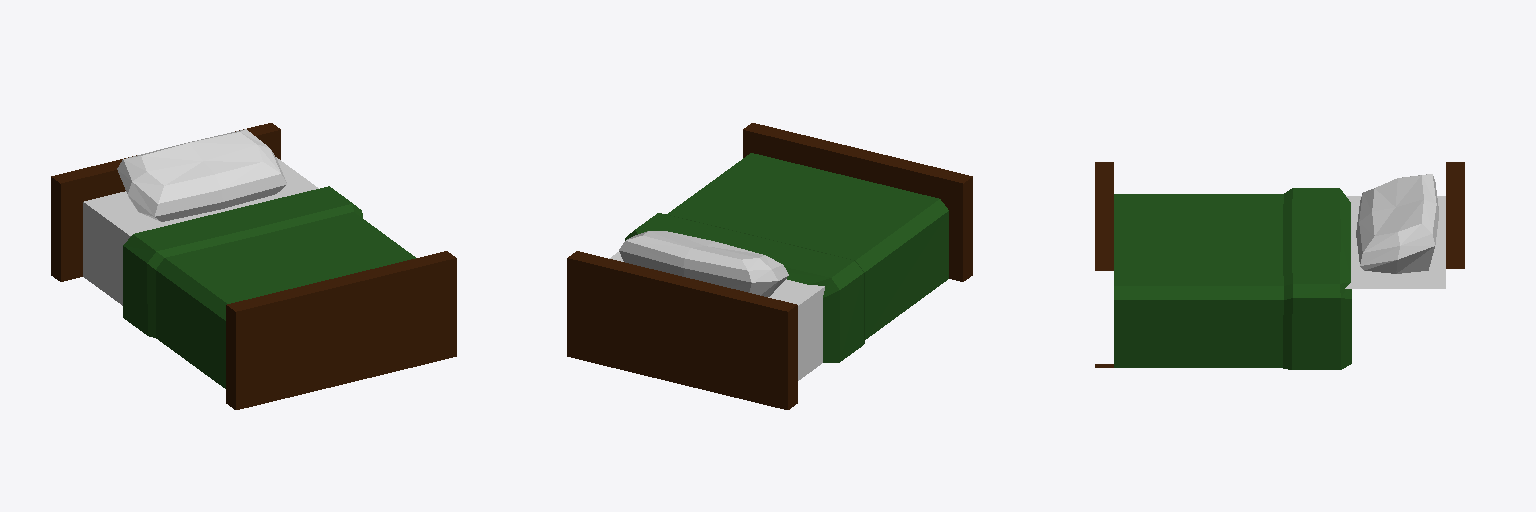
The model's file is HQ_bed.obj.
3 views of the same model, side by side, from view 1: azimuth 30°, elevation 25°; view 2: azimuth 150°, elevation 25°; view 3: azimuth 270°, elevation 25° (orthographic).
Visible parts, largest first — view 1: HQ_bed; view 2: HQ_bed; view 3: HQ_bed.
Boxes of the visible parts, x1=… form: HQ_bed: x1=51, y1=123, x2=456, y2=409; HQ_bed: x1=567, y1=123, x2=972, y2=409; HQ_bed: x1=1095, y1=162, x2=1464, y2=369.
Size of the model in its own units: 5.27 by 2.65 by 7.5.